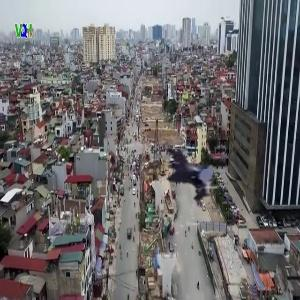drone: (139, 134, 225, 220)
